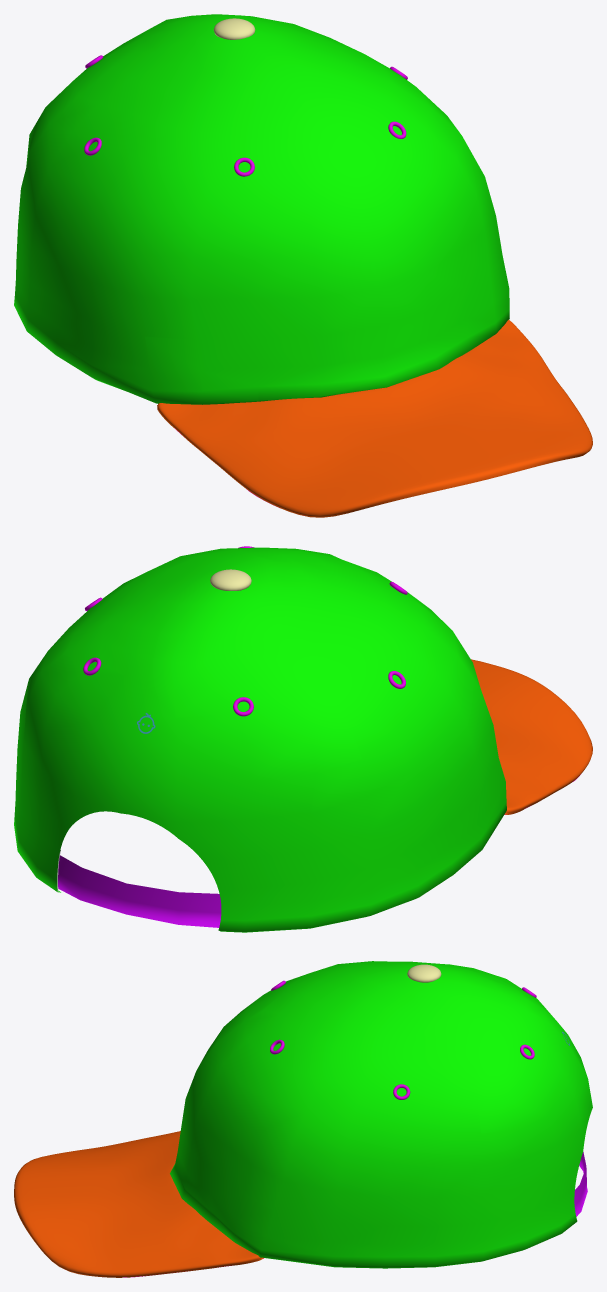
The model's file is SNAPBACK_FINALVERSION.glb.
3 renders of one model, top to bottom at view 1: azimuth 30°, elevation 25°; view 2: azimuth 150°, elevation 25°; view 3: azimuth 270°, elevation 25°, orthographic. The views are drawn at different scales.
Visible parts, largest first — view 1: Cap2, Brim2, eyelets2, button1; view 2: Cap2, Brim2, Cap_Band, eyelets2, button1; view 3: Cap2, Brim2, eyelets2, button1, Cap_Band.
Part boxes in pixels (left/top/right/bottom): Cap2: left=14, top=14, right=509, bottom=404; Brim2: left=157, top=319, right=592, bottom=517; eyelets2: left=84, top=55, right=407, bottom=176; button1: left=213, top=18, right=255, bottom=39; Cap2: left=14, top=547, right=506, bottom=932; Brim2: left=471, top=659, right=592, bottom=814; Cap_Band: left=58, top=855, right=221, bottom=927; eyelets2: left=83, top=546, right=407, bottom=716; button1: left=210, top=569, right=251, bottom=590; Cap2: left=170, top=961, right=592, bottom=1268; Brim2: left=14, top=1131, right=263, bottom=1277; eyelets2: left=270, top=980, right=536, bottom=1099; button1: left=407, top=964, right=441, bottom=982; Cap_Band: left=574, top=1152, right=587, bottom=1216.
Bounding box in the file's own units: 0.2092 × 0.152 × 0.3208.
Materials: 8 (1 with a texture image).
